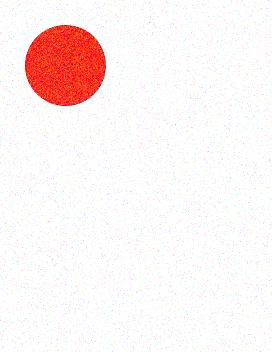A: (19, 16, 259, 340)
